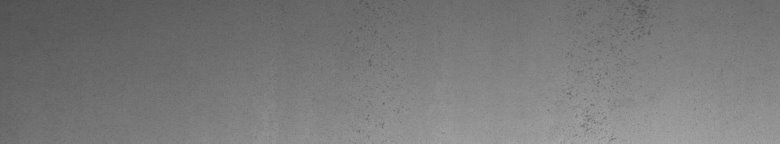ib: (568, 4, 656, 131)
